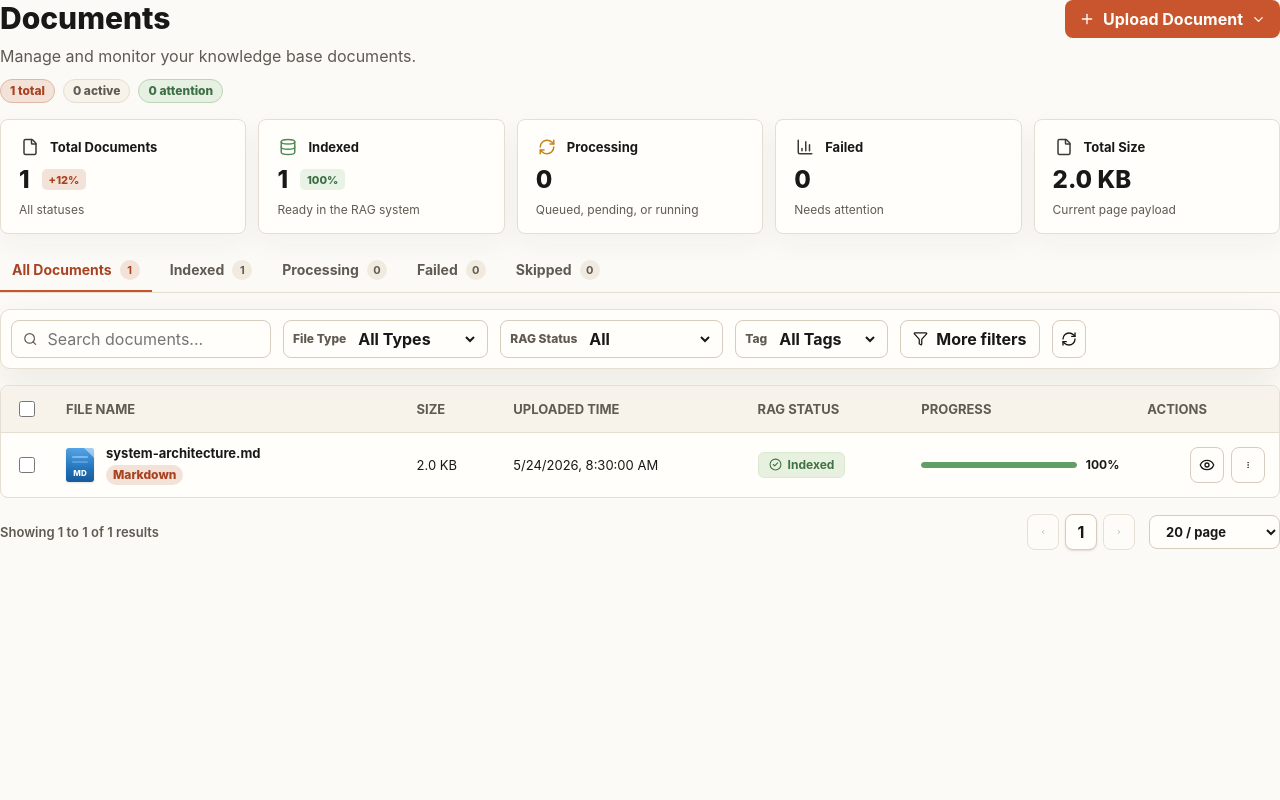
Test: DocumentPreviewDrawer › ignores late preview responses after the drawer is closed
What coordinates should you click on to do the following:
click the button named "View system-architecture.md"
I would click on:
 (1207, 465)
Its box is [1190,447,1224,483].
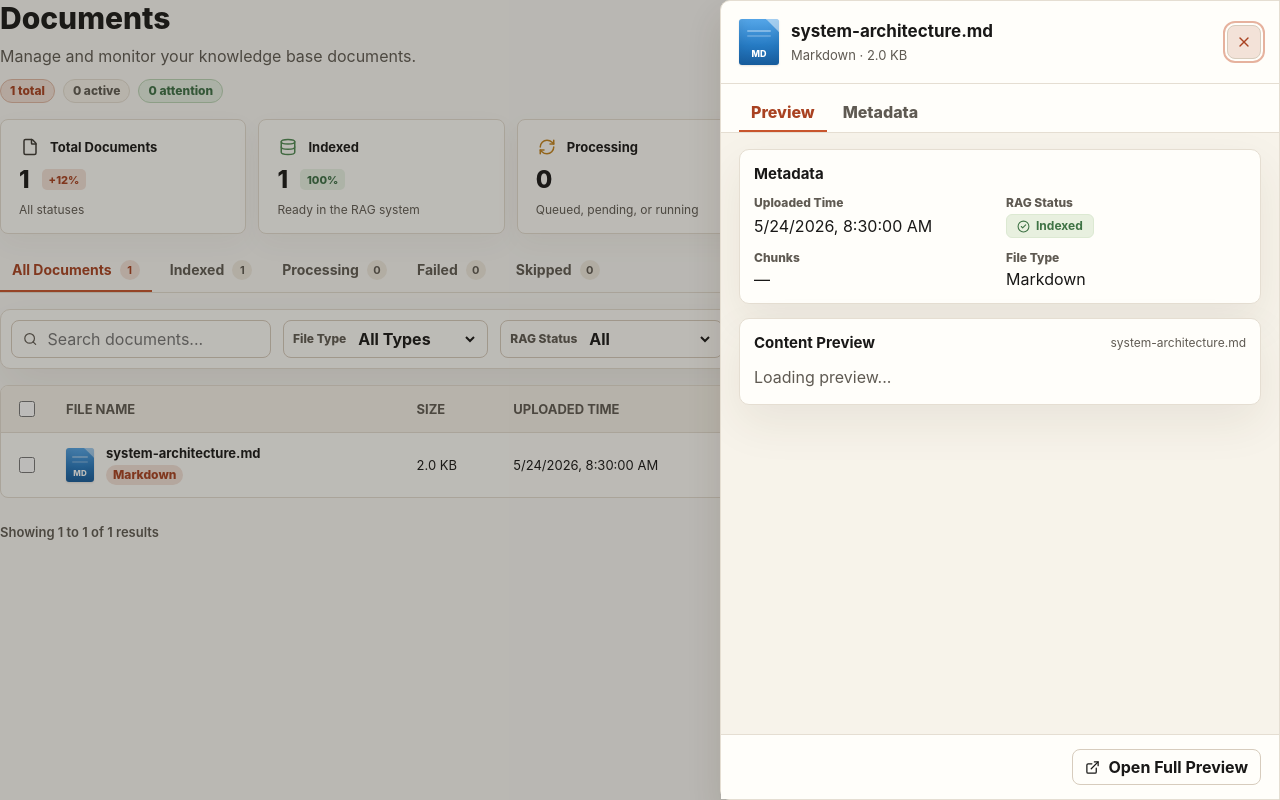
What coordinates should you click on to do the following:
click the button named "Close preview"
I would click on:
 (1244, 42)
Its box is [1227,25,1261,59].
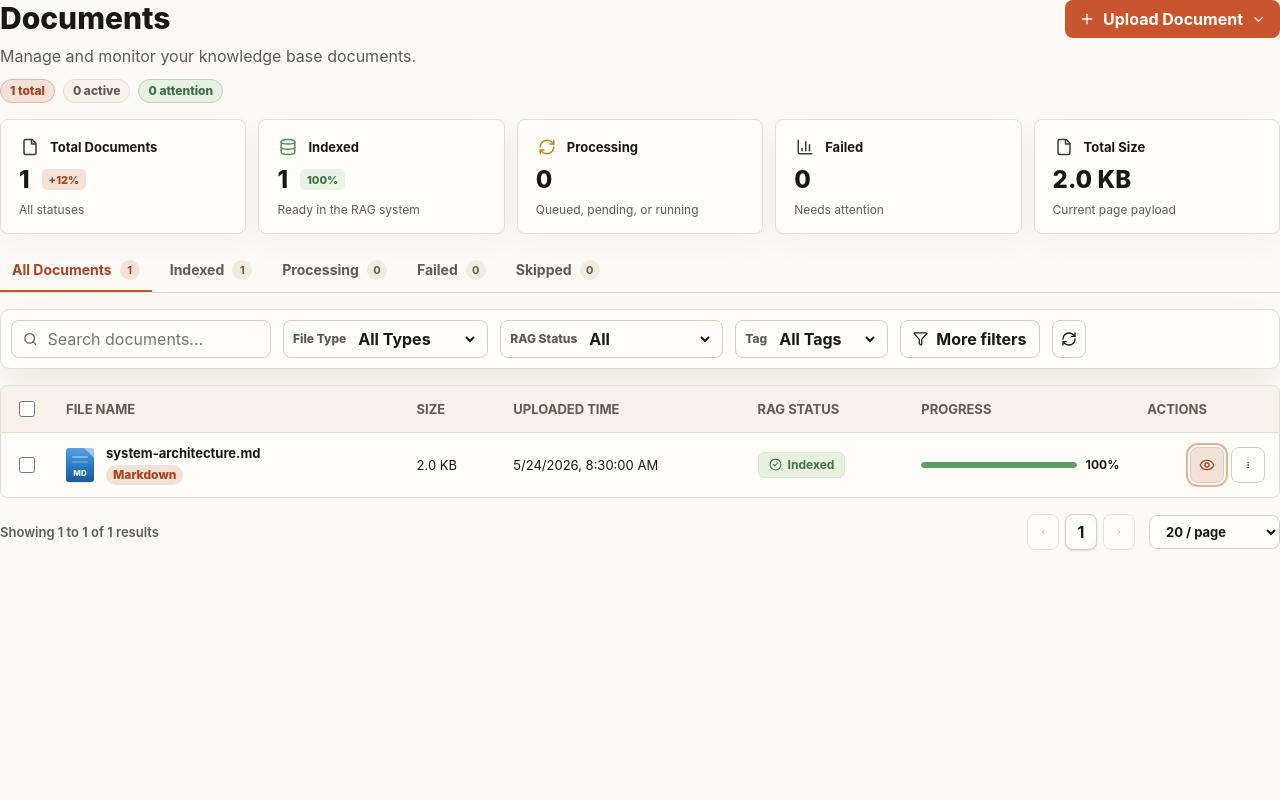
Now the dialog is gone
